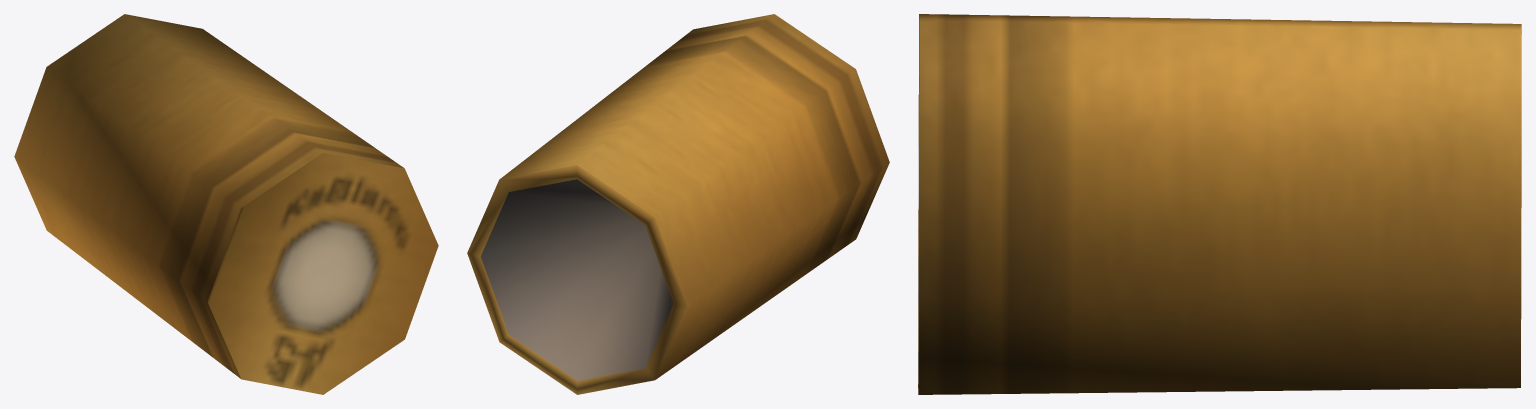
Rendered from SpentShell.fbx.
3 renders of one model, left to right at view 1: azimuth 30°, elevation 25°; view 2: azimuth 150°, elevation 25°; view 3: azimuth 270°, elevation 25°, orthographic. The views are drawn at different scales.
Parts seen in each view (by area): view 1: shell; view 2: shell; view 3: shell.
Part boxes in pixels (x1=…): shell: x1=14, y1=14, x2=438, y2=394; shell: x1=467, y1=14, x2=889, y2=394; shell: x1=918, y1=14, x2=1521, y2=394.
Size of the model in its own units: 0.0682 by 0.0682 by 0.1016.
